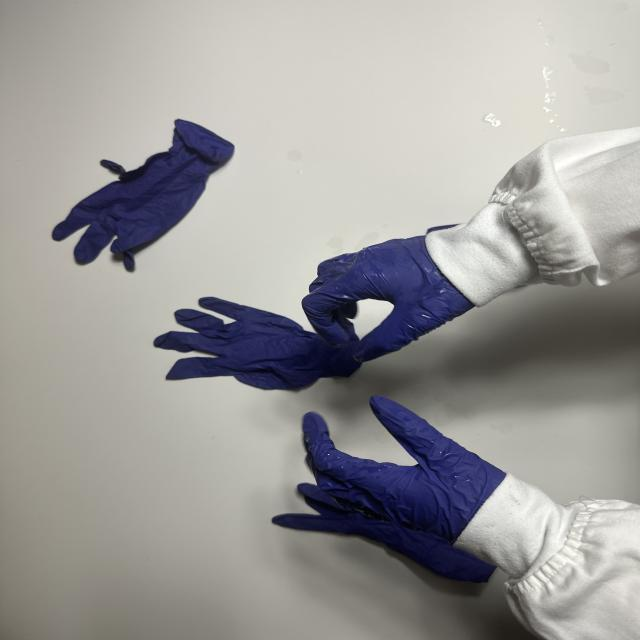gloves_contaminated: (302, 396, 506, 544), (302, 236, 474, 361)
